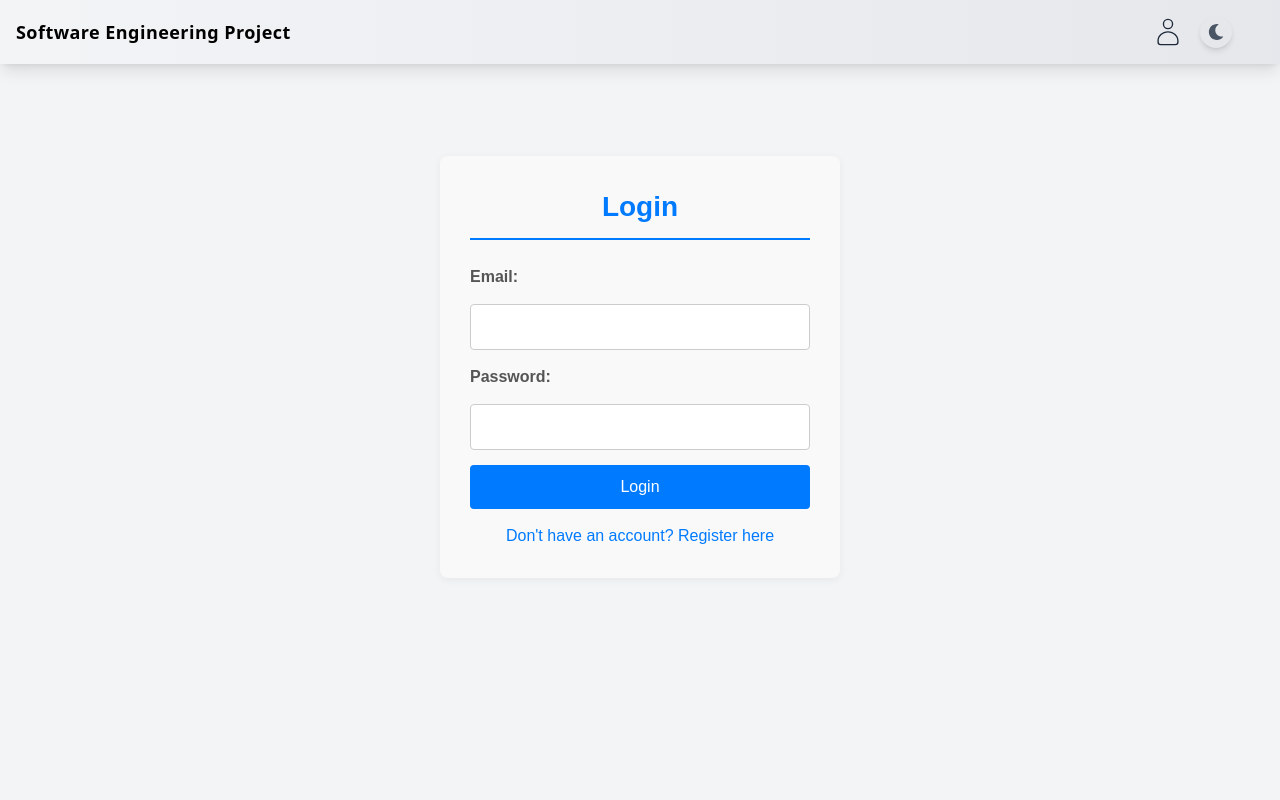
Test: Navigation and Routing › Navigation Between Pages › should navigate between login and register pages
The image size is (1280, 800).
Expected: the heading "Login" is shown, [470,186,810,240]
# Navigate to register
Click the link with test id "go-to-register" at coordinates (640, 536), box [506,527,774,544]
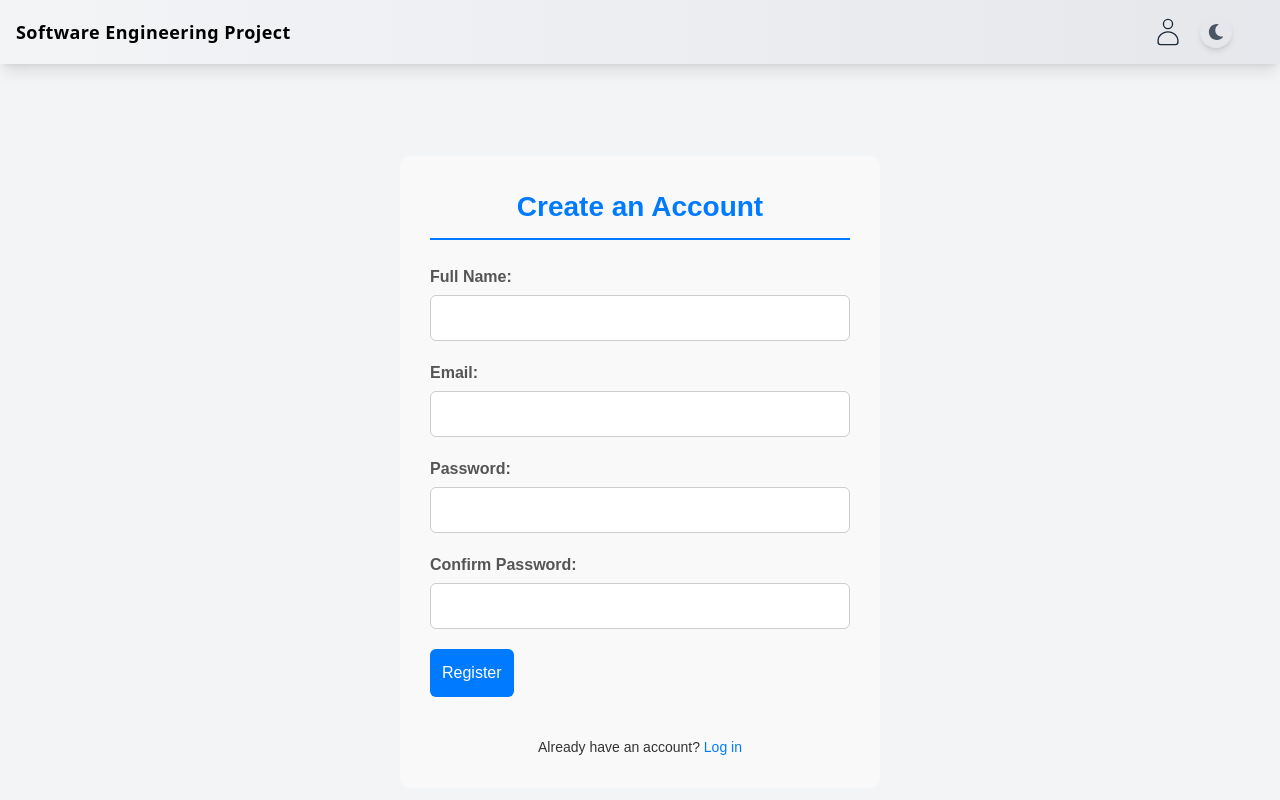
Result: the heading "Create an Account" is shown at [430,186,850,240]
# Navigate back to login
Click the link with test id "go-to-login" at coordinates (723, 747), box [704,739,742,755]
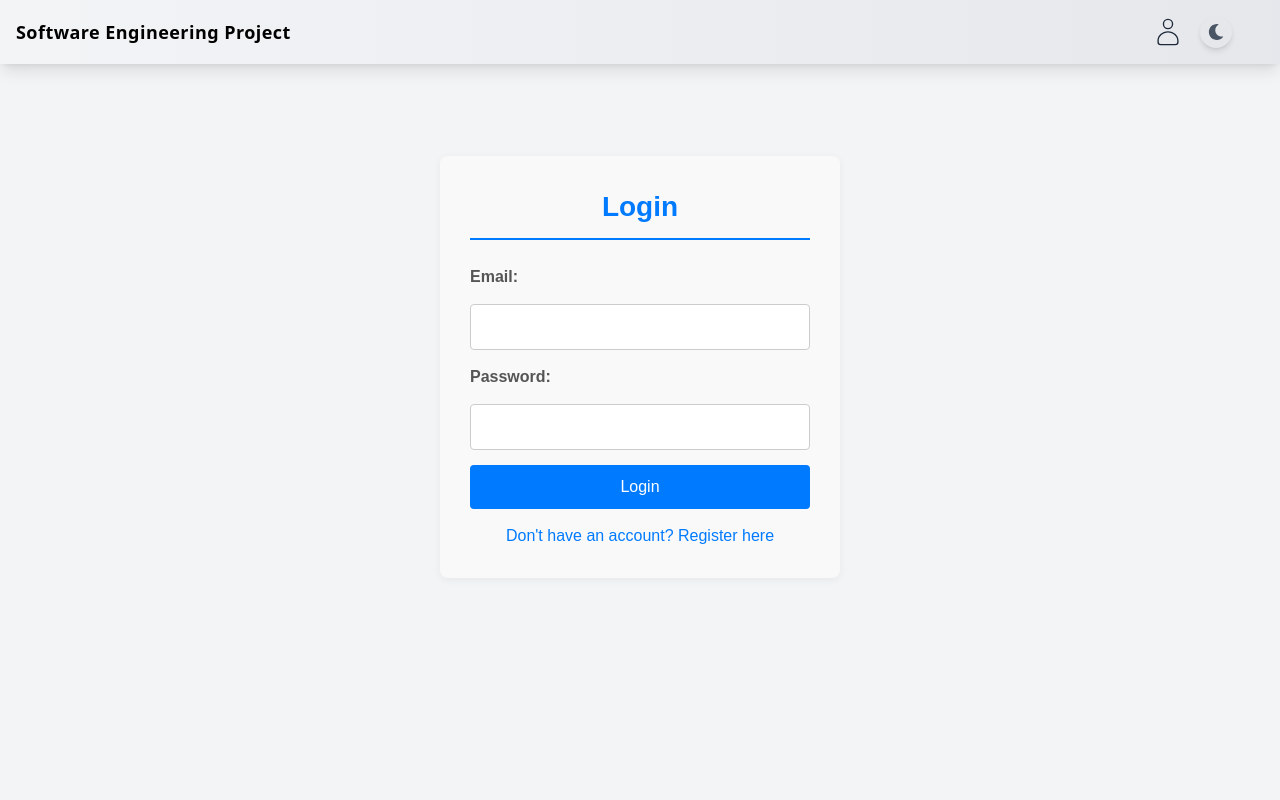
Result: the heading "Login" is shown at [470,186,810,240]
